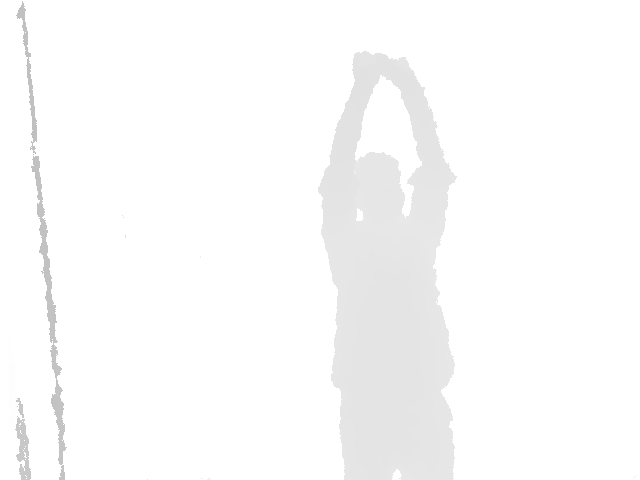hand: (377, 53, 420, 90), (351, 52, 386, 85)
head: (354, 152, 405, 218)
person: (317, 52, 460, 480)
